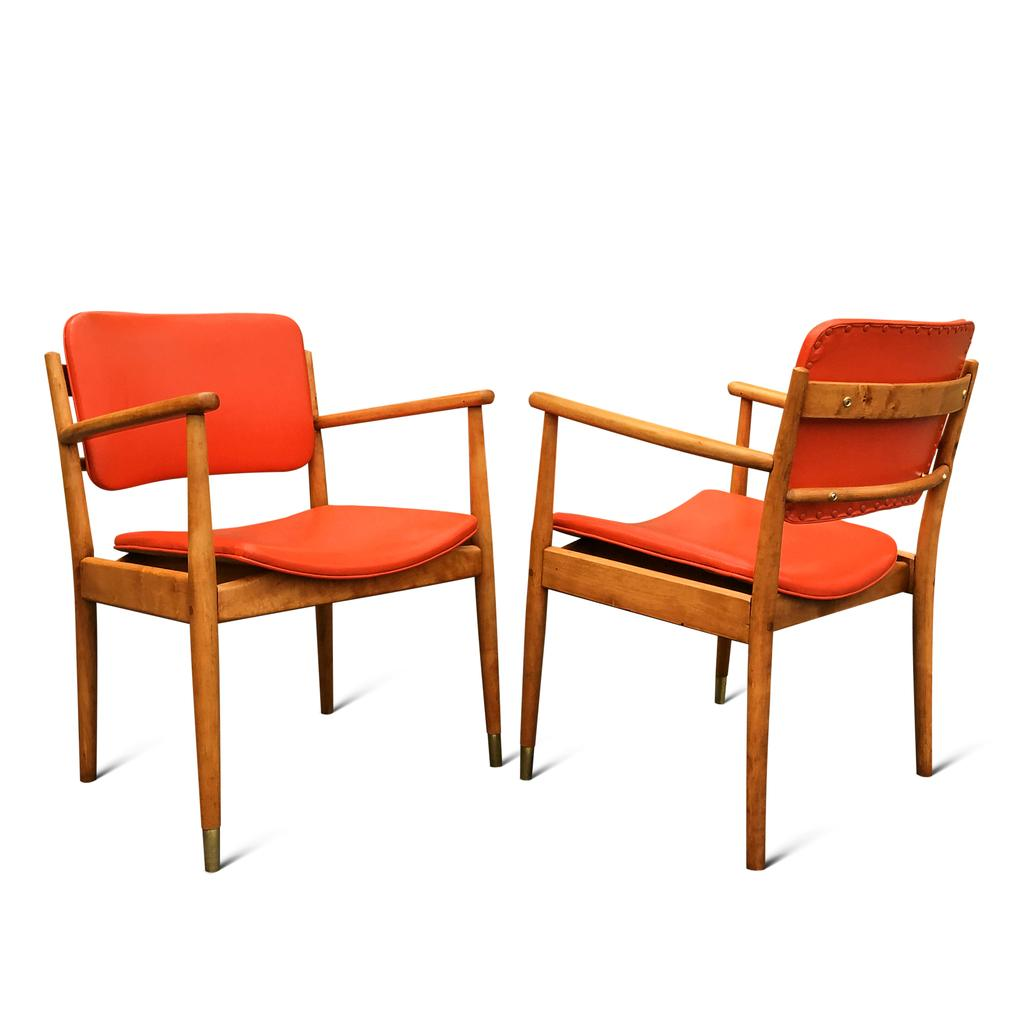Chair: (520, 307, 976, 883), (43, 308, 502, 860)
